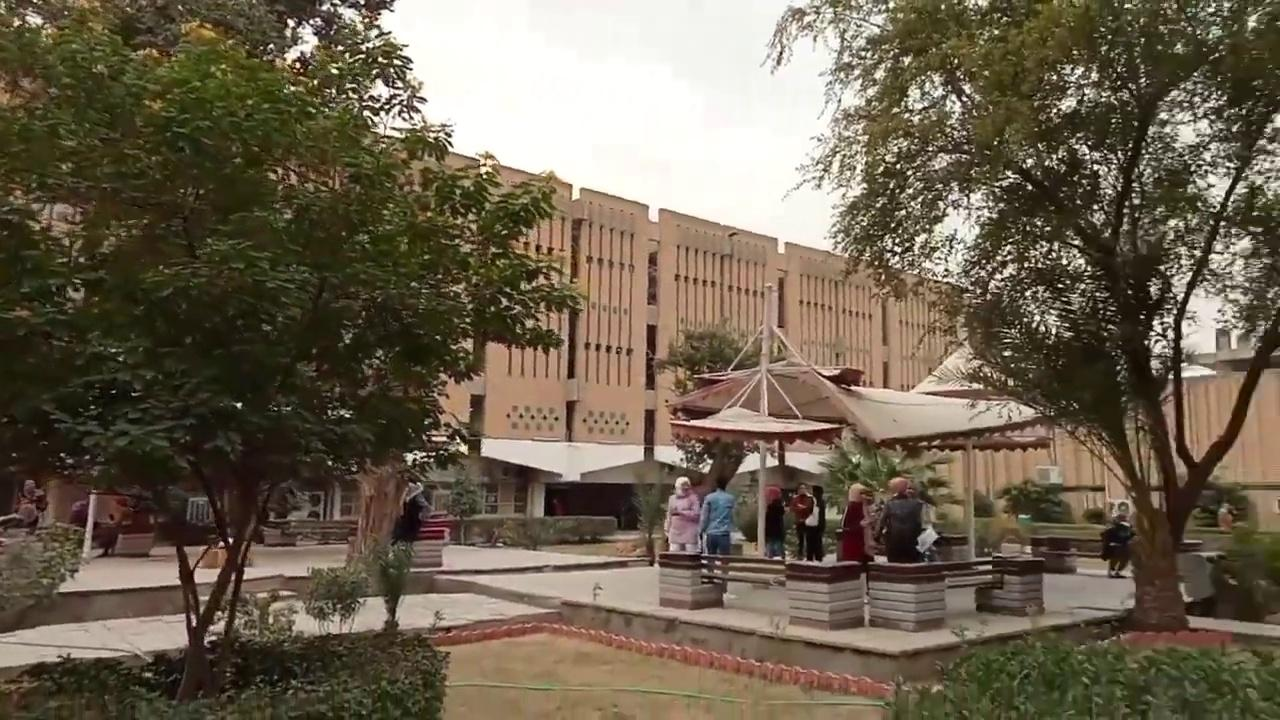person: (876, 476, 925, 563), (389, 471, 432, 547), (838, 482, 877, 563), (663, 475, 701, 552), (698, 475, 735, 554), (1100, 502, 1136, 578), (906, 480, 938, 561), (789, 482, 815, 560), (802, 484, 825, 561), (764, 485, 786, 559), (13, 478, 46, 527)
tree: (0, 1, 587, 706), (759, 0, 1279, 632), (816, 428, 958, 559), (629, 480, 665, 565), (444, 471, 483, 545)
